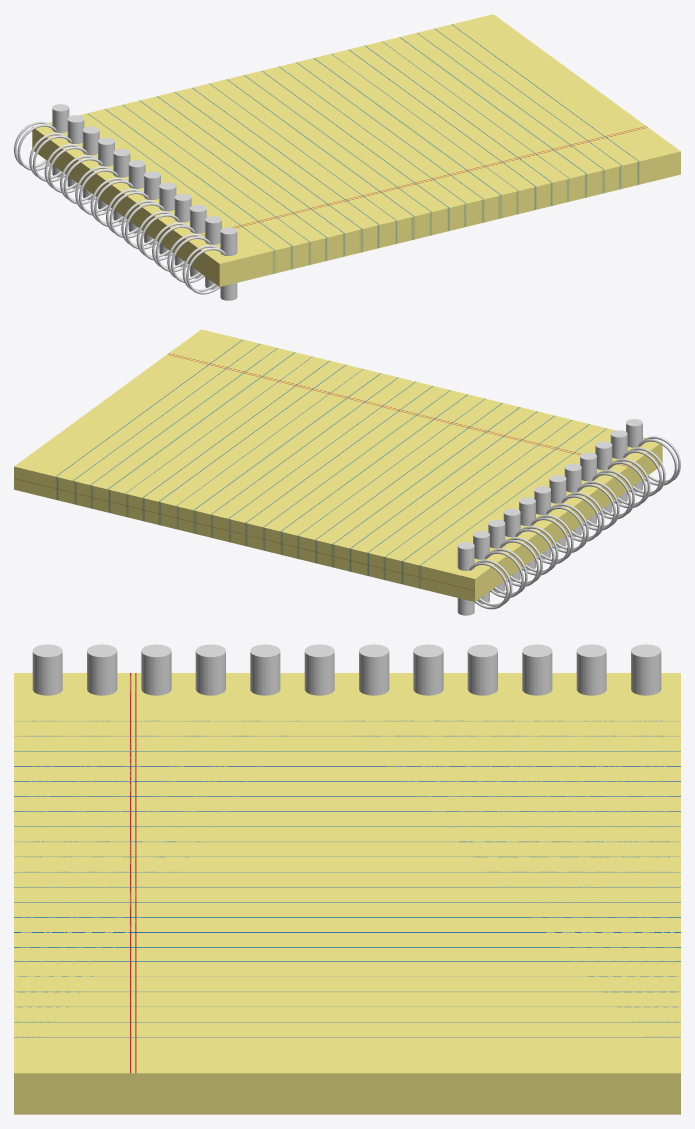
File: Notepad.fbx
3 renders of one model, top to bottom at view 1: azimuth 30°, elevation 25°; view 2: azimuth 150°, elevation 25°; view 3: azimuth 270°, elevation 25°, orthographic. The views are drawn at different scales.
Parts seen in each view (by area): view 1: Cube, Cylinder, BezierCircle; view 2: Cube, Cylinder, BezierCircle; view 3: Cube, Cylinder.
Part boxes in pixels (x1,y1,x2,y2): Cube: [32, 14, 680, 286]; Cylinder: [52, 104, 237, 300]; BezierCircle: [14, 121, 225, 294]; Cube: [14, 329, 662, 601]; Cylinder: [457, 419, 642, 615]; BezierCircle: [469, 436, 680, 609]; Cube: [14, 673, 680, 1114]; Cylinder: [32, 644, 661, 695].
Bounding box in the file's own units: 211 × 27.5 × 141.
